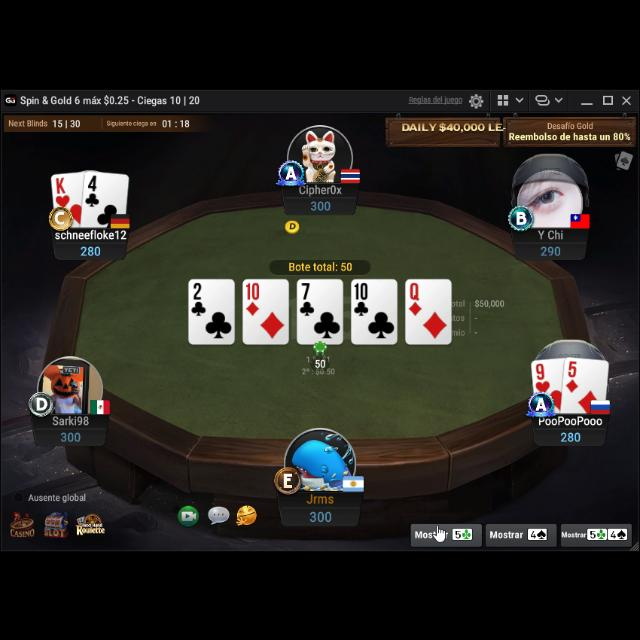2c: (190, 278, 208, 316)
4c: (84, 170, 102, 208)
5d: (564, 357, 580, 393)
6d: (565, 357, 581, 393)
7c: (298, 278, 316, 316)
9h: (534, 360, 552, 392)
Kh: (54, 174, 70, 206)
Qd: (406, 278, 424, 316)
Tc: (352, 280, 370, 316)
Td: (244, 278, 262, 316)
bet_text: (314, 355, 326, 369), (315, 356, 327, 368)
dealer: (284, 215, 300, 232)
pot_text: (288, 258, 354, 272)
stack_text: (307, 506, 333, 522), (57, 427, 83, 441), (538, 241, 562, 255), (558, 428, 582, 442), (308, 197, 332, 211), (80, 241, 102, 255)
